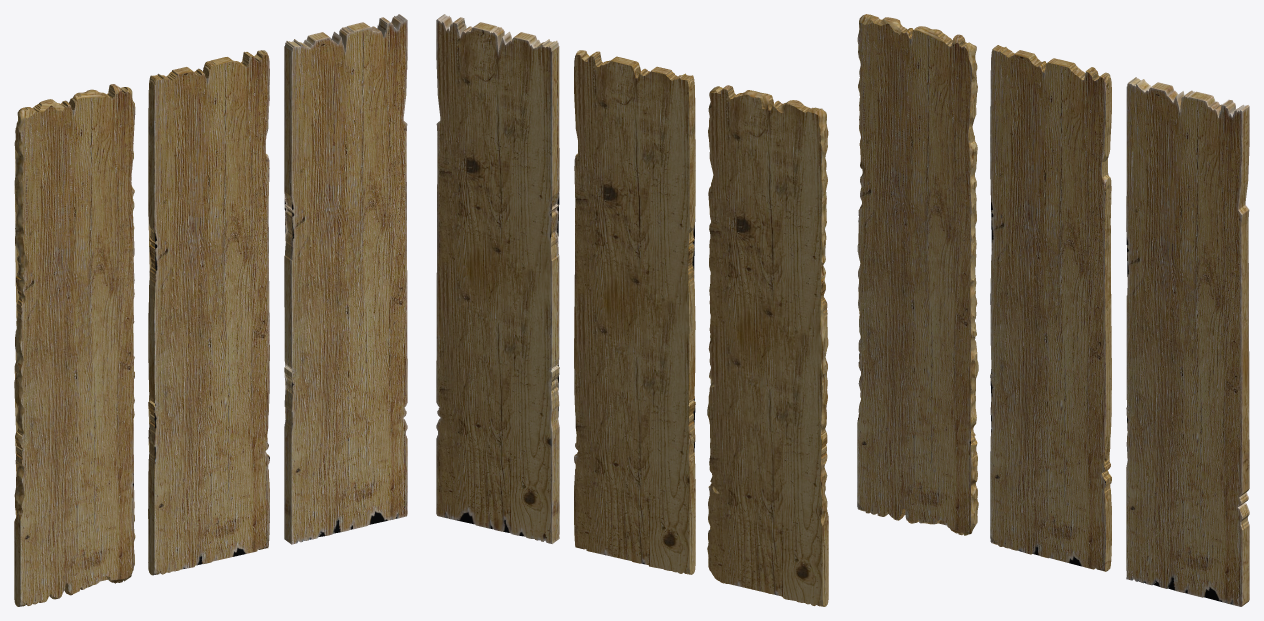
The model's file is planks.fbx.
3 views of the same model, side by side, from view 1: azimuth 30°, elevation 25°; view 2: azimuth 150°, elevation 25°; view 3: azimuth 330°, elevation 25° (orthographic).
Visible parts, largest first — view 1: PLANK 1, PLANK 2, PLANK 3; view 2: PLANK 1, PLANK 2, PLANK 3; view 3: PLANK 1, PLANK 2, PLANK 3.
Part boxes in pixels (box(x1,y1,x2,y2)): PLANK 1: box(284, 14, 407, 544); PLANK 2: box(148, 50, 269, 575); PLANK 3: box(14, 84, 135, 606); PLANK 1: box(436, 14, 559, 543); PLANK 2: box(574, 50, 695, 574); PLANK 3: box(707, 85, 828, 606); PLANK 1: box(1126, 77, 1249, 606); PLANK 2: box(990, 45, 1111, 571); PLANK 3: box(857, 14, 978, 535).
Size of the model in its own units: 73.64 by 90.69 by 2.46.
Materials: 1 (1 with a texture image).
